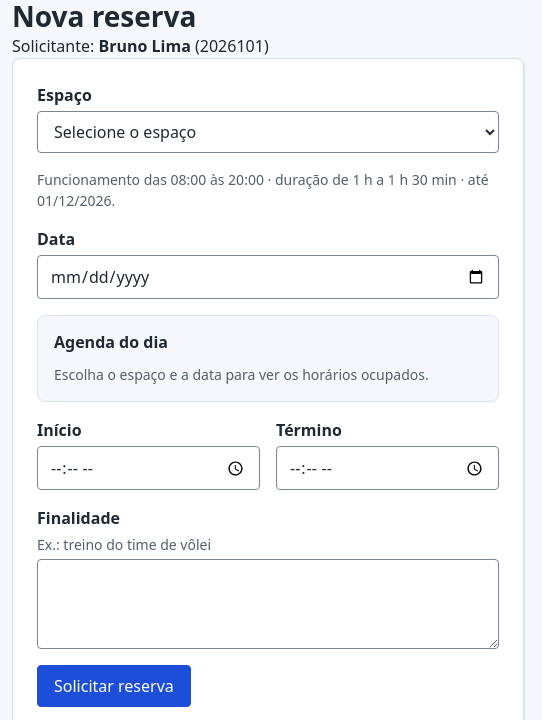
Test case: PaginaNovaReserva › depois de um 409 de conflito, a agenda é recarregada
The width and height of the screenshot is (542, 720).
Select "Ginásio A (Ginásio)" in the dropdown labelled "Espaço" at (268, 132), box top-left (37, 111), bottom-right (499, 153)
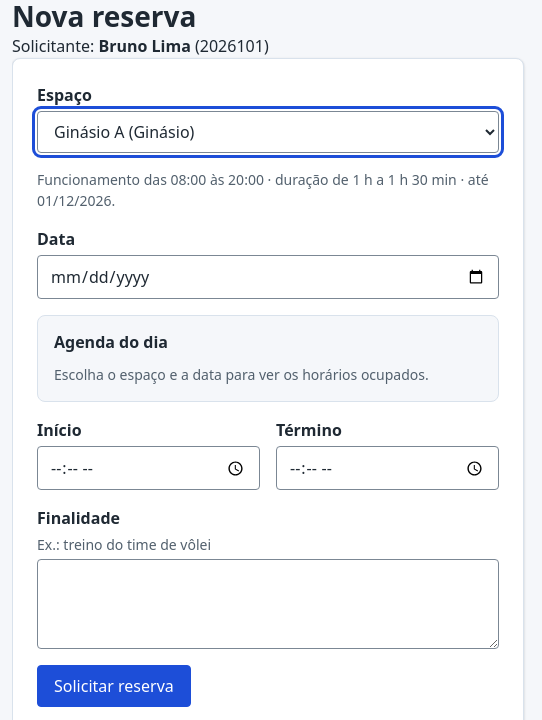
Type "2026-10-25" into the date field labelled "Data" at (268, 277), box top-left (37, 255), bottom-right (499, 299)
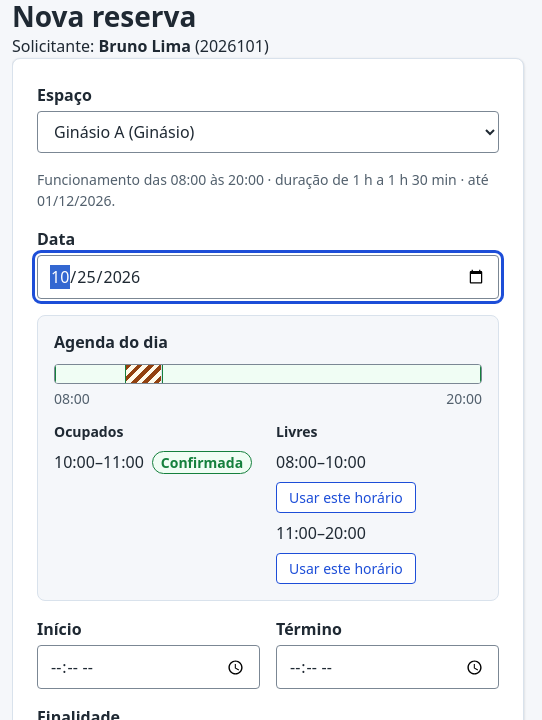
Type "10:00" into the time field labelled "Início" at (148, 667), box top-left (37, 645), bottom-right (260, 689)
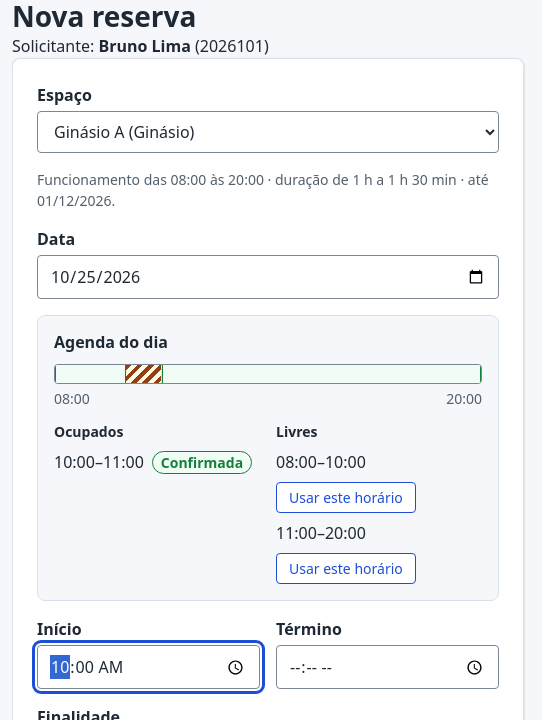
Type "11:00" into the time field labelled "Término" at (388, 667), box top-left (276, 645), bottom-right (499, 689)
(page scrolled)
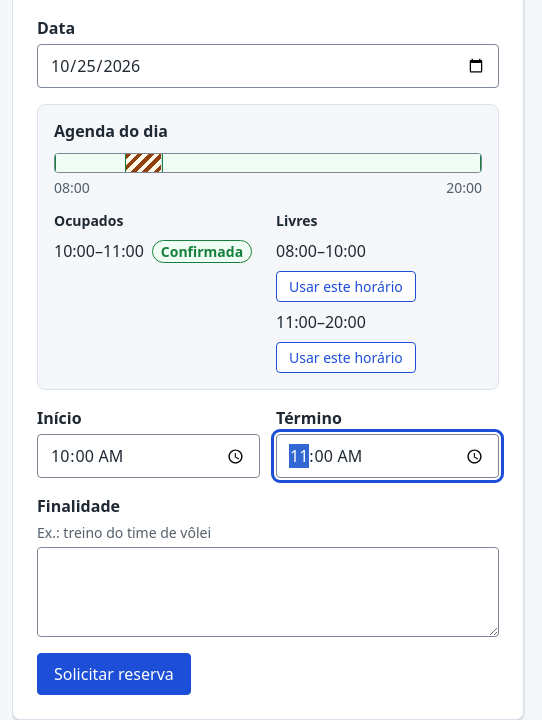
Type "Treino do time de vôlei" into the text box labelled "Finalidade" at (268, 592), box top-left (37, 547), bottom-right (499, 637)
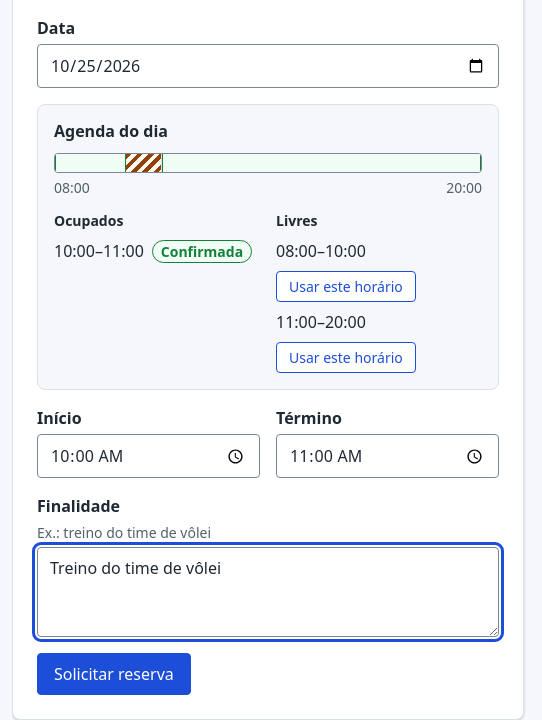
Result: the list named "Ocupados" is shown at top-left (54, 239), bottom-right (260, 263)
Click the button "Solicitar reserva" at (114, 674), box top-left (37, 653), bottom-right (191, 695)
(page scrolled)
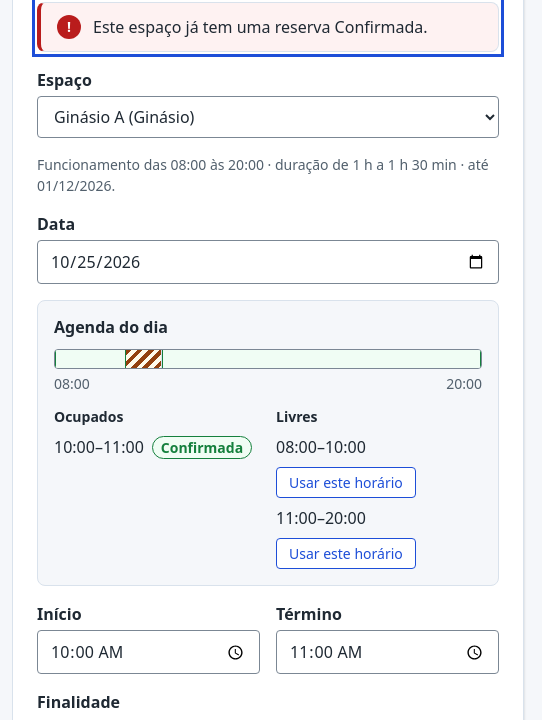
Result: the message "! Este espaço já tem uma reserva Confirmada." is shown at top-left (37, 2), bottom-right (499, 52)
